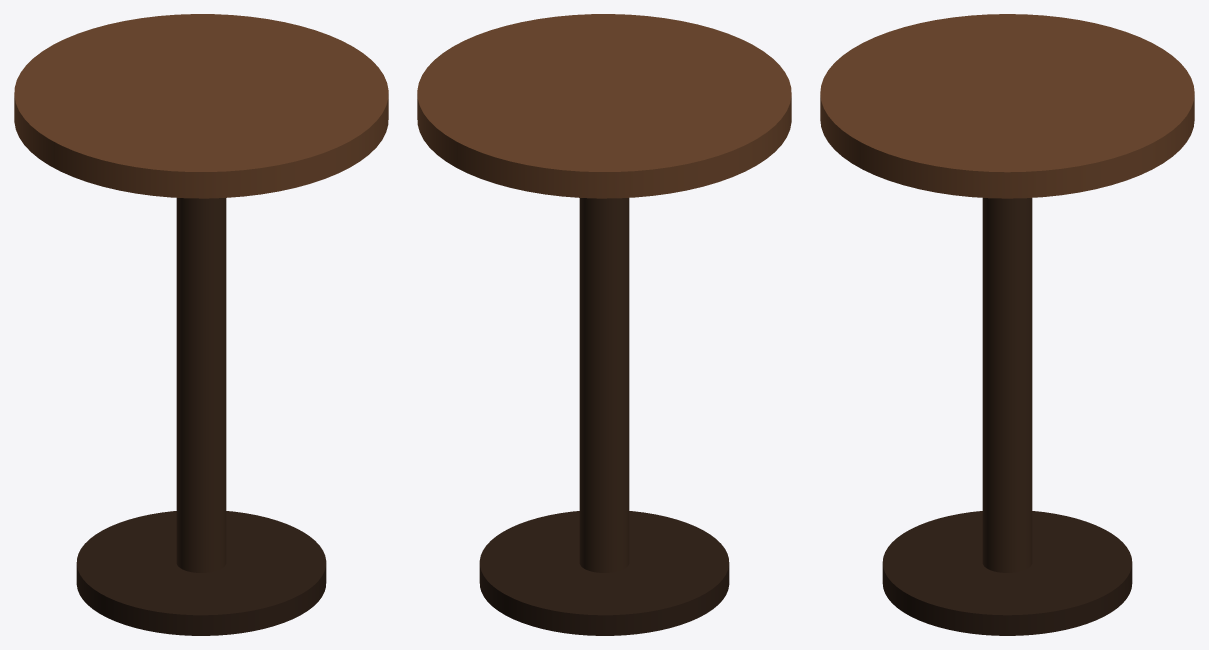
Rendered from drink_table.glb.
The picture shows the model from 3 angles, left to right: view 1: azimuth 30°, elevation 25°; view 2: azimuth 150°, elevation 25°; view 3: azimuth 270°, elevation 25°; orthographic projection.
Parts seen in each view (by area): view 1: top, base, stem; view 2: top, base, stem; view 3: top, base, stem.
Boxes of the visible parts, <box> form: top: <box>14,14,388,198</box>; base: <box>76,511,326,635</box>; stem: <box>176,198,226,572</box>; top: <box>417,14,791,198</box>; base: <box>479,511,729,635</box>; stem: <box>579,198,629,572</box>; top: <box>820,14,1194,198</box>; base: <box>882,511,1132,635</box>; stem: <box>982,198,1032,572</box>.
Size of the model in its own units: 0.36 by 0.52 by 0.36.
